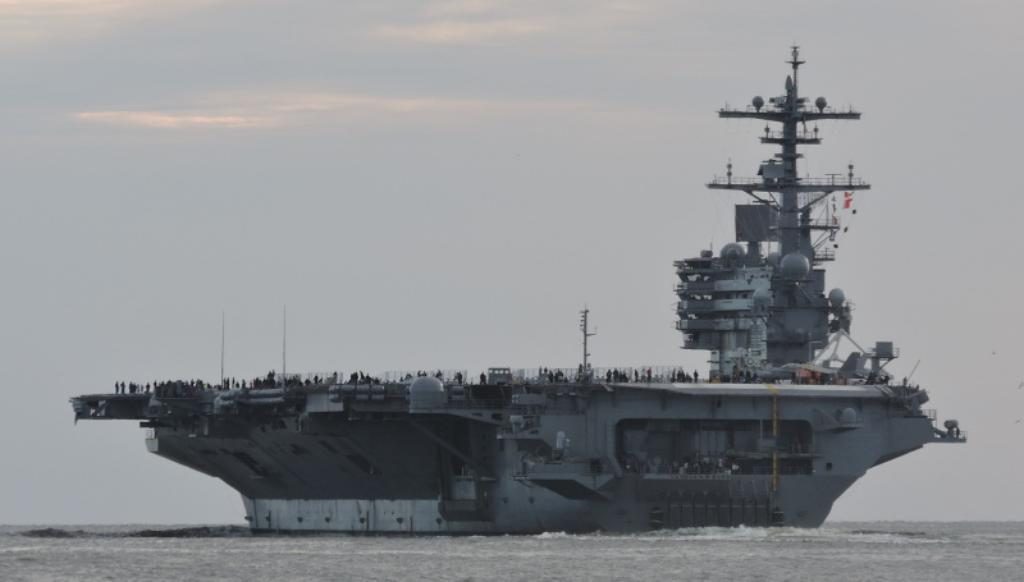Warship: (69, 46, 967, 542)
